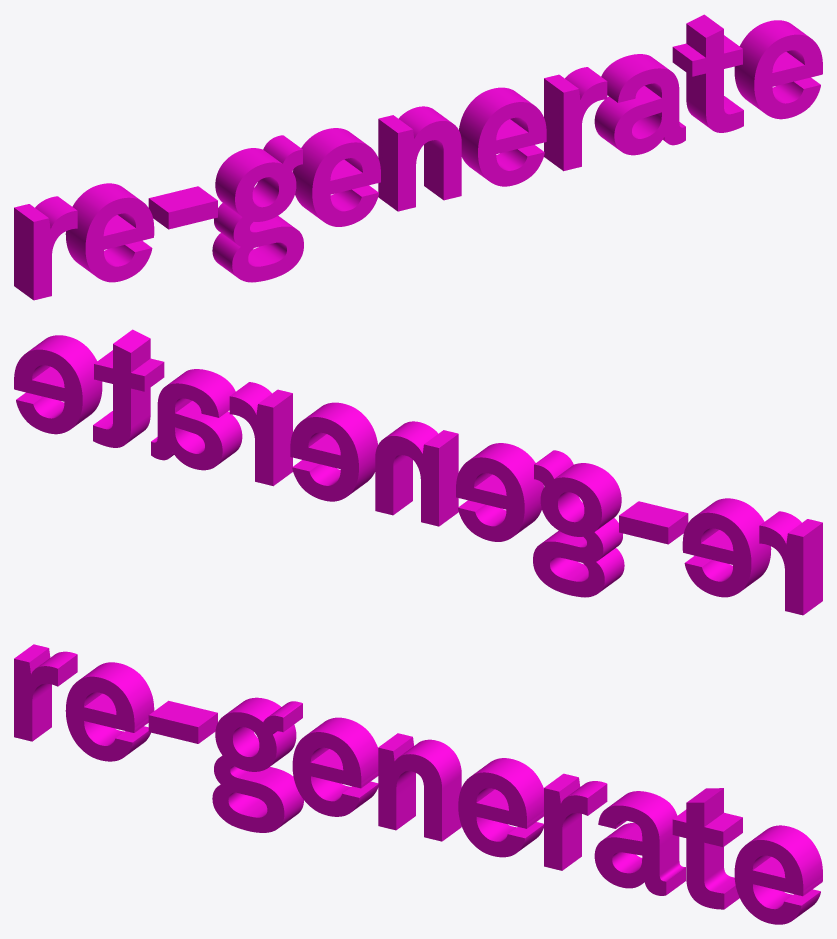
File: REGENERATE.gltf
3 views of the same model, one above another, from view 1: azimuth 30°, elevation 25°; view 2: azimuth 150°, elevation 25°; view 3: azimuth 330°, elevation 25° (orthographic).
Parts seen in each view (by area): view 1: AR WORDS; view 2: AR WORDS; view 3: AR WORDS.
Boxes of the visible parts, x1,y1,x2,y2 form: AR WORDS: (14,14,822,300); AR WORDS: (14,329,822,615); AR WORDS: (14,644,822,924).
Size of the model in its own units: 3.13 by 0.5306 by 0.1354.
